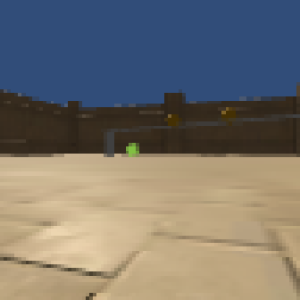goodGoal: (124, 143, 143, 159)
goodGoalMulti: (166, 110, 183, 128), (219, 107, 236, 122)
wall: (102, 127, 117, 160)
